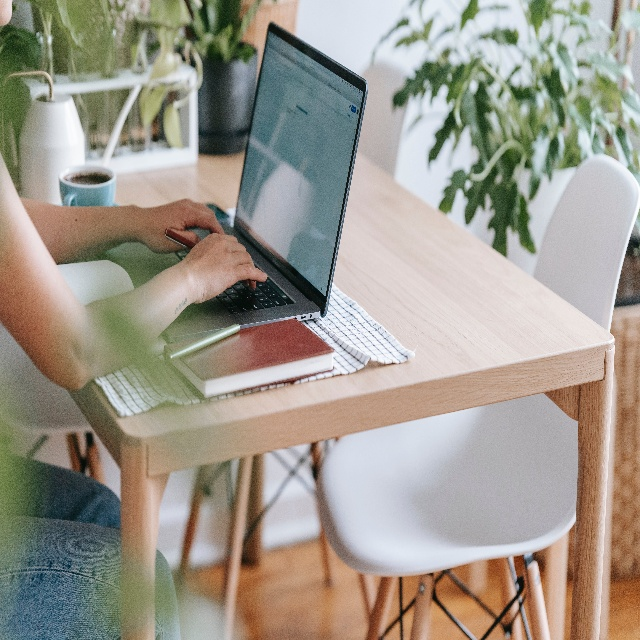Sin_guantes: (181, 228, 267, 305), (150, 197, 225, 255)
